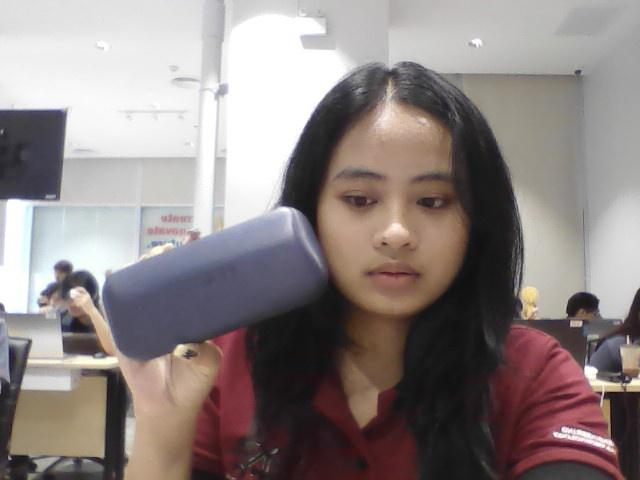glasses box: (81, 164, 330, 379)
